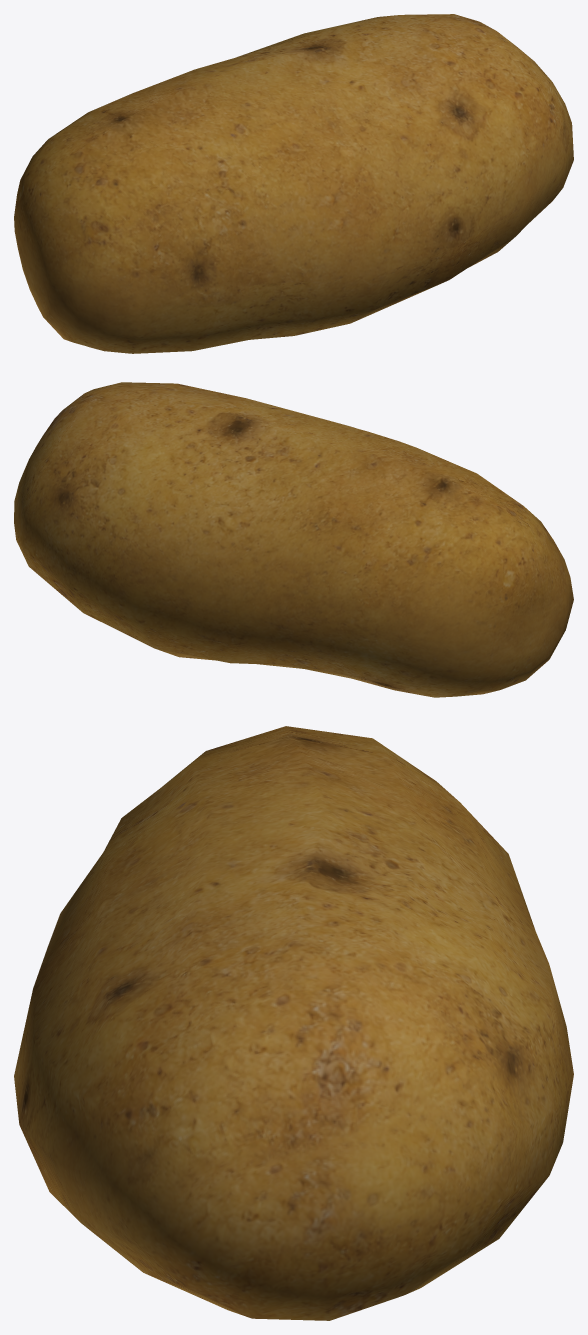
File: potato_yellow.glb
3 views of the same model, one above another, from view 1: azimuth 30°, elevation 25°; view 2: azimuth 150°, elevation 25°; view 3: azimuth 270°, elevation 25° (orthographic). The views are drawn at different scales.
Parts seen in each view (by area): view 1: LP_0; view 2: LP_0; view 3: LP_0.
Boxes of the visible parts, x1,y1,x2,y2 form: LP_0: [14, 14, 573, 353]; LP_0: [14, 382, 573, 697]; LP_0: [14, 726, 573, 1320].
Size of the model in its own units: 0.1475 by 0.0639 by 0.0859.
Materials: 1 (1 with a texture image).
